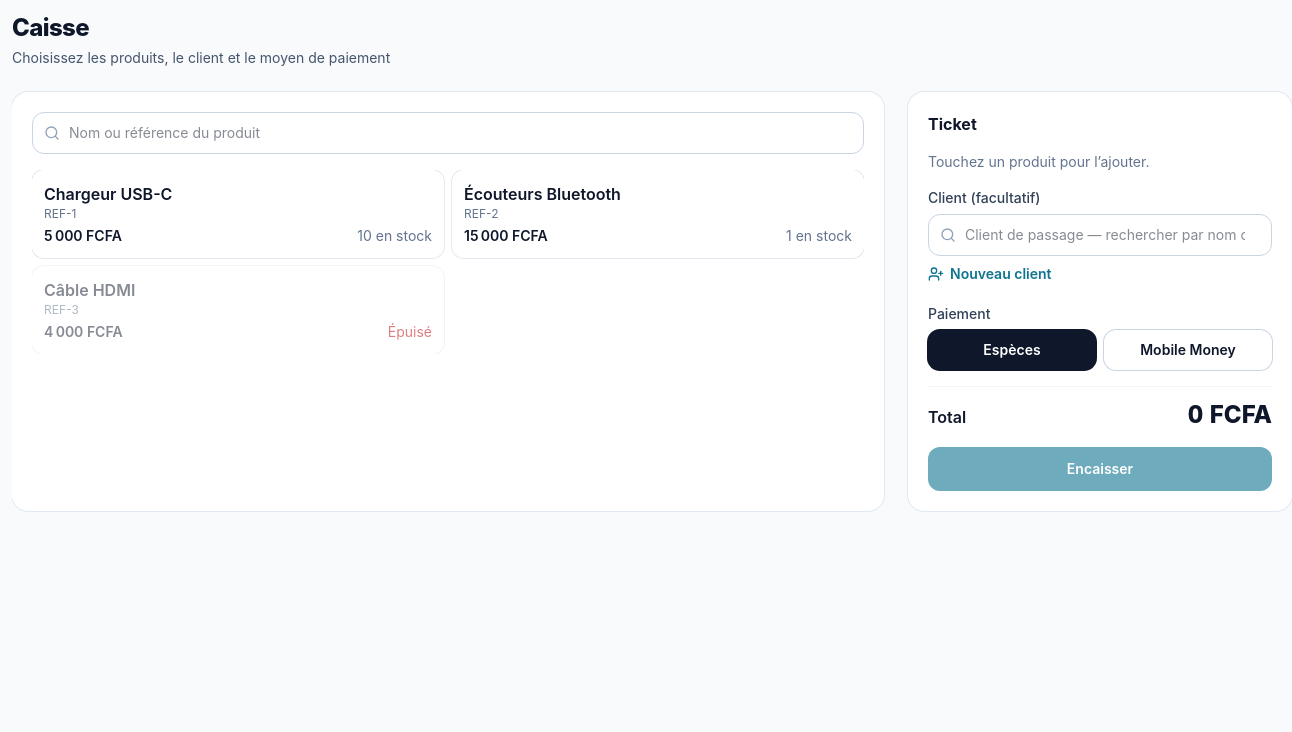
Test case: Caisse (US-11) › n ajoute pas un produit epuise et bloque au stock disponible
Expected: the button with aria-label "Ajouter Câble HDMI" is disabled, x1=32 y1=266 x2=444 y2=354
Click the button with aria-label "Ajouter Écouteurs Bluetooth".
click(542, 194)  # box x1=452 y1=170 x2=864 y2=258
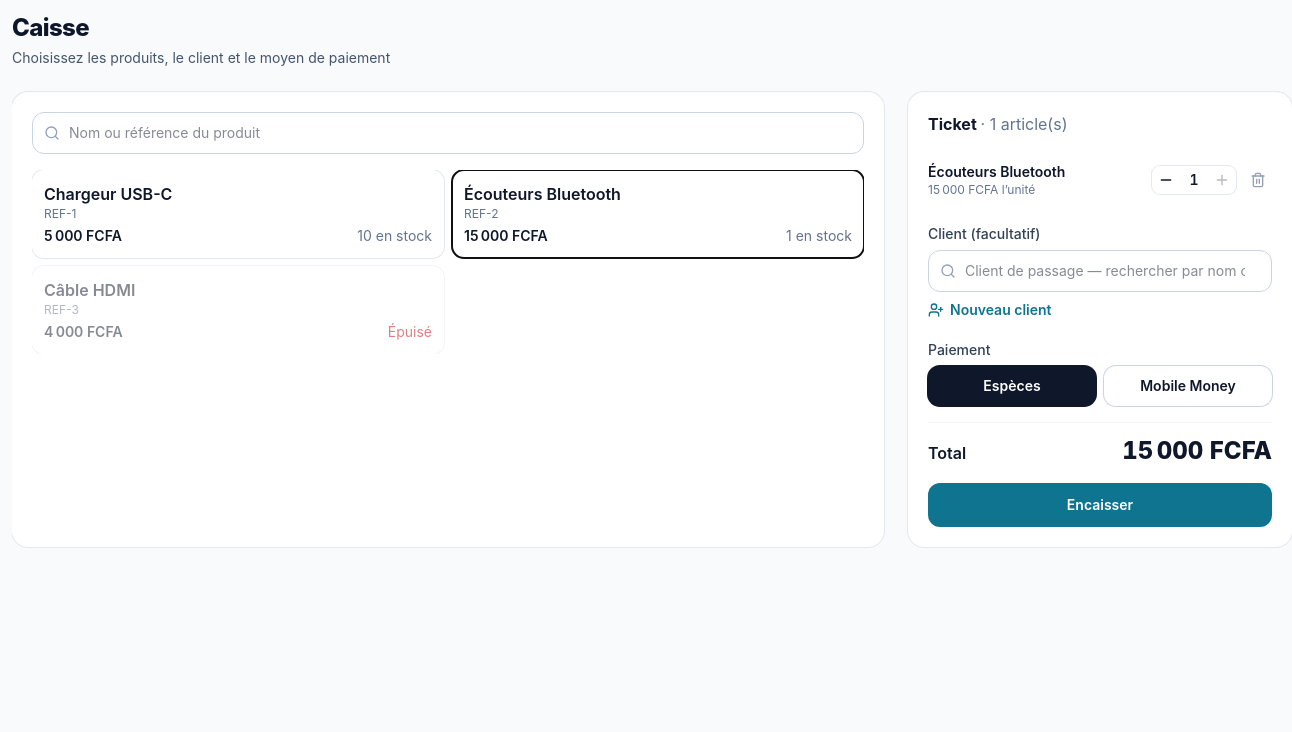
Result: the button named "Une pièce de plus : Écouteurs Bluetooth" is disabled at x1=1208 y1=166 x2=1236 y2=194
Result: the button "Encaisser" is enabled at x1=928 y1=483 x2=1272 y2=527
